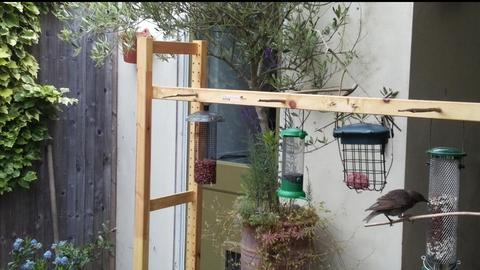starling: (362, 189, 430, 227)
